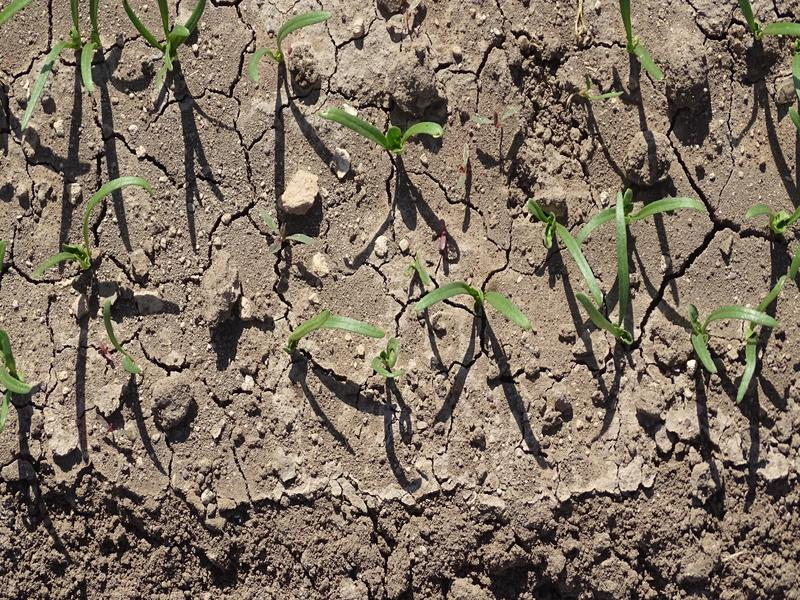Espinaca: (550, 192, 694, 339), (33, 172, 154, 278), (127, 1, 214, 103), (686, 309, 775, 395), (423, 268, 528, 330), (241, 11, 336, 78), (56, 1, 110, 118), (325, 100, 442, 151), (614, 1, 668, 87), (95, 299, 154, 377), (766, 16, 800, 125), (279, 308, 385, 341), (1, 338, 33, 432), (741, 199, 798, 240), (375, 339, 405, 377)
